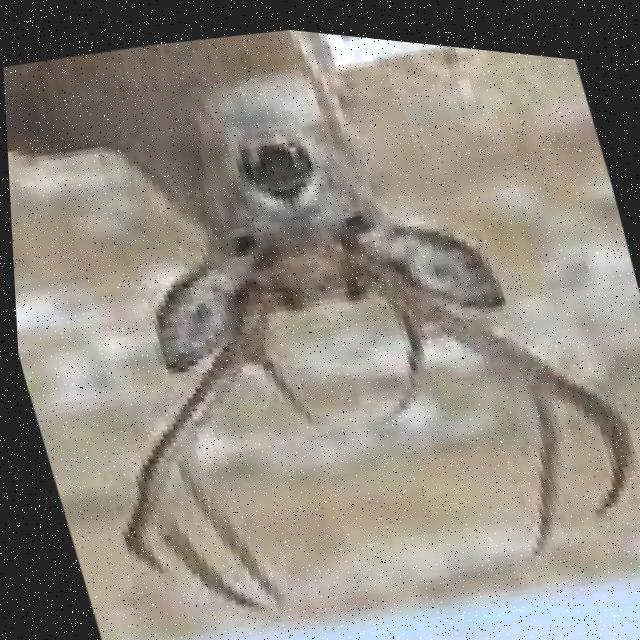L-F: (362, 258, 633, 507)
L-G1: (384, 298, 422, 415)
L-G2: (520, 366, 556, 546)
R-F: (115, 287, 276, 572)
R-G1: (246, 343, 309, 422)
R-G2: (171, 437, 282, 605)
R-G3: (148, 484, 263, 610)
